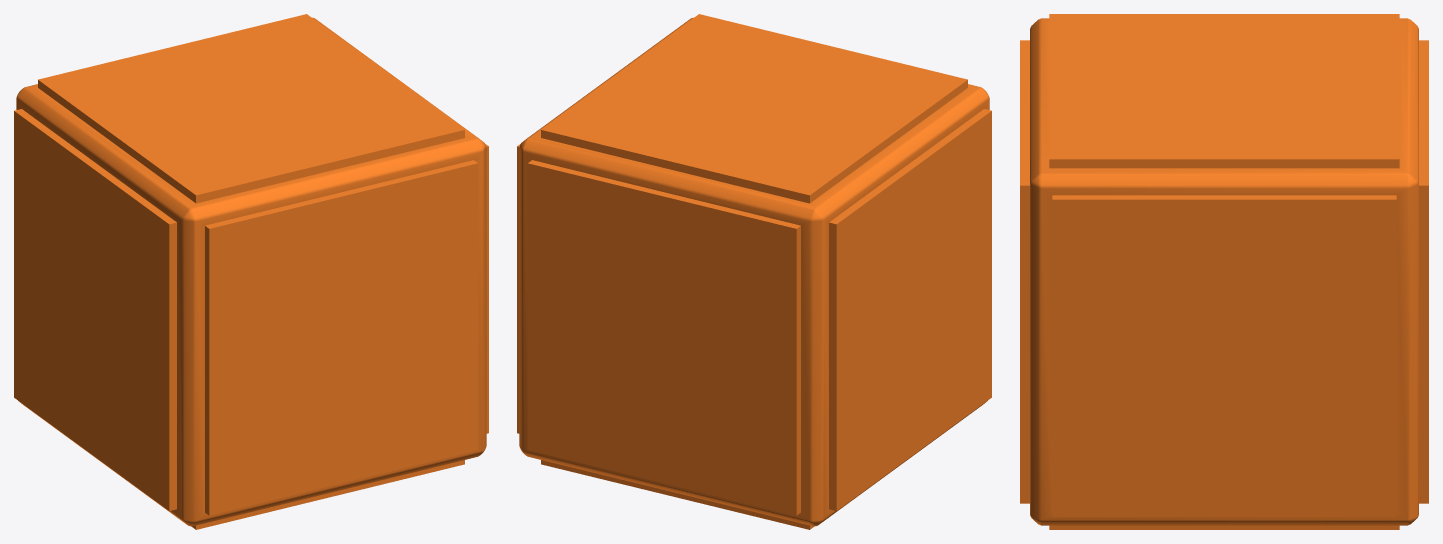
File: MovingBlock.fbx
3 renders of one model, left to right at view 1: azimuth 30°, elevation 25°; view 2: azimuth 150°, elevation 25°; view 3: azimuth 270°, elevation 25°, orthographic. The views are drawn at different scales.
Parts seen in each view (by area): view 1: MovingBlock; view 2: MovingBlock; view 3: MovingBlock.
Part boxes in pixels (x1,y1,x2,y2): MovingBlock: [14, 14, 488, 529]; MovingBlock: [517, 14, 991, 529]; MovingBlock: [1020, 14, 1428, 529].
Size of the model in its own units: 1.05 by 1.05 by 1.05.
